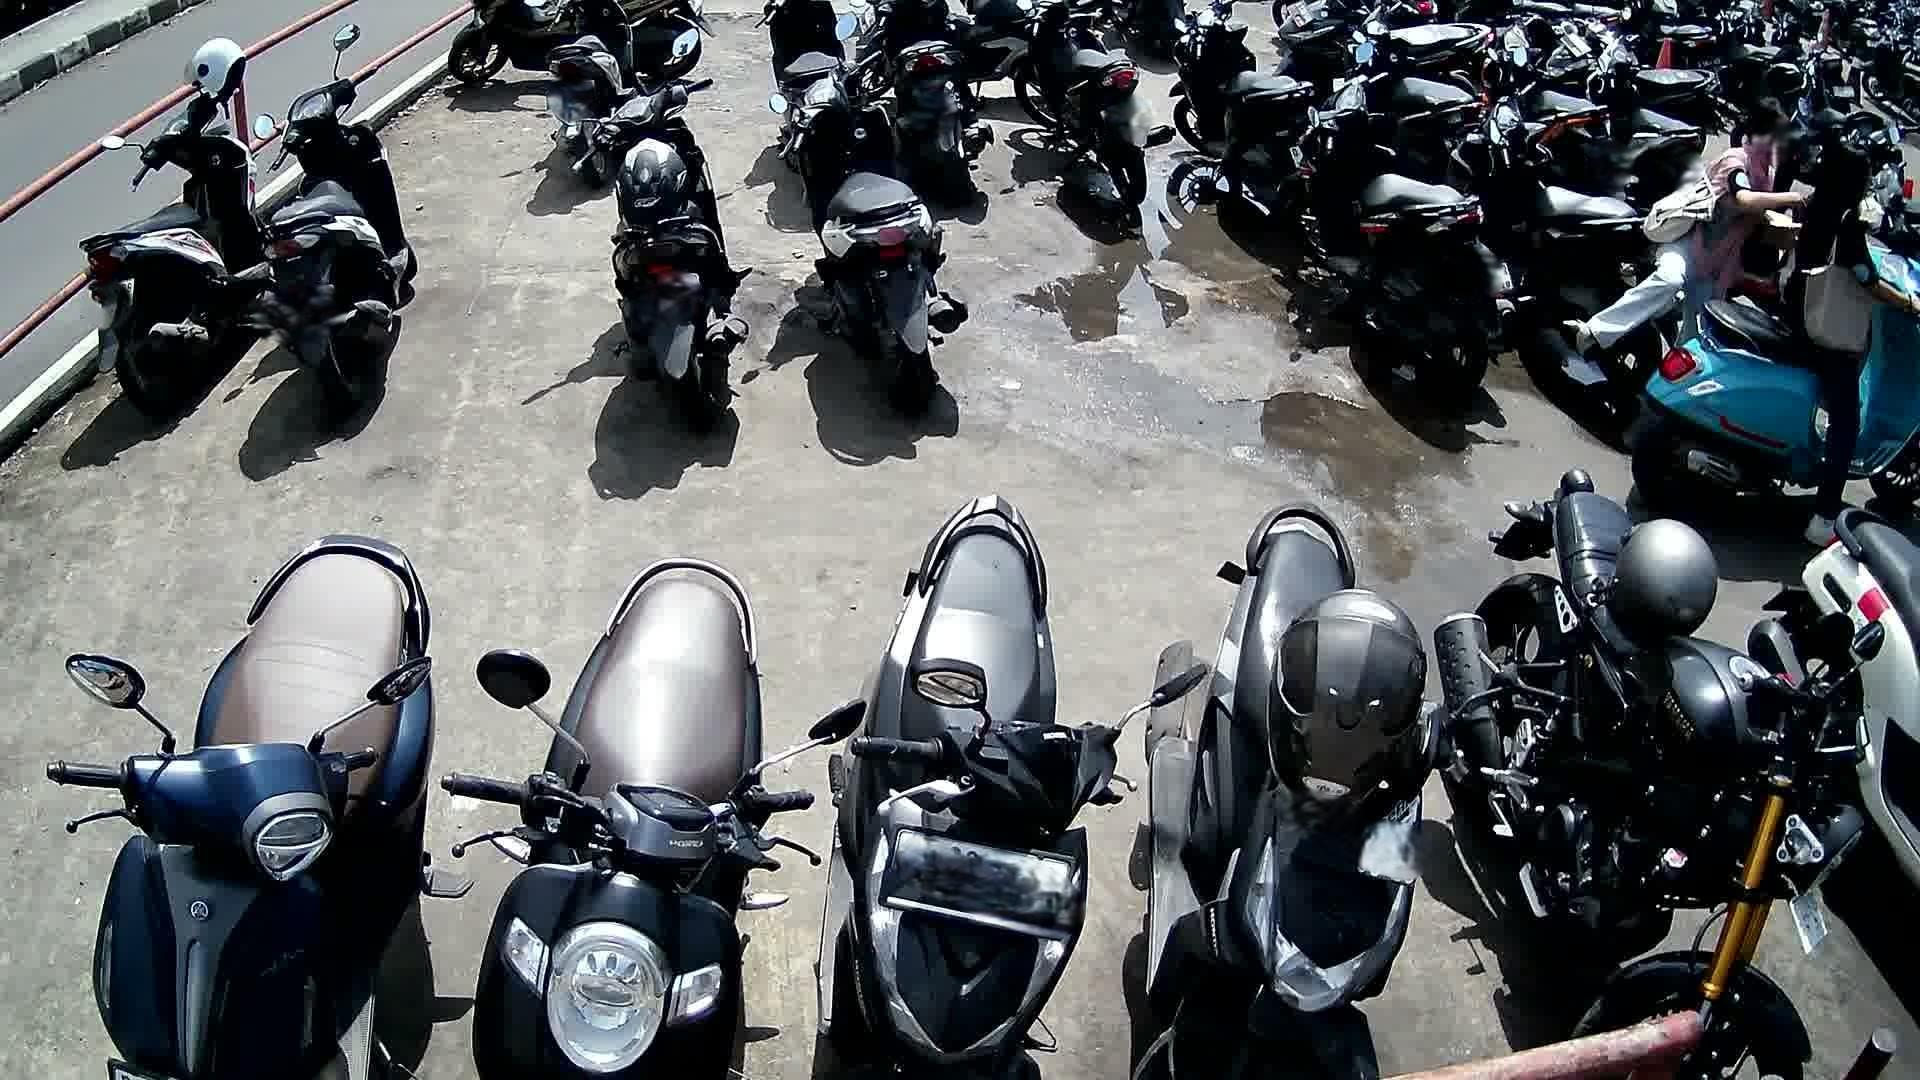motorcycle: (1437, 468, 1867, 1080), (42, 531, 476, 1080), (440, 554, 865, 1080), (818, 495, 1180, 1080), (1133, 501, 1455, 1080), (769, 13, 975, 423), (1286, 41, 1520, 400), (1627, 236, 1920, 509), (568, 28, 758, 443), (249, 21, 425, 419), (1745, 508, 1920, 902), (76, 80, 268, 421), (1439, 73, 1647, 297)
